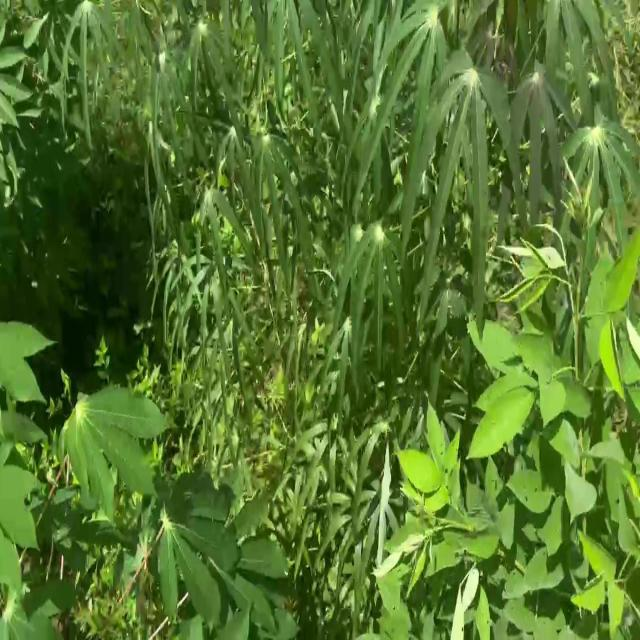Maleza: (403, 447, 563, 640), (542, 424, 640, 640), (481, 357, 635, 468), (502, 265, 619, 374)
